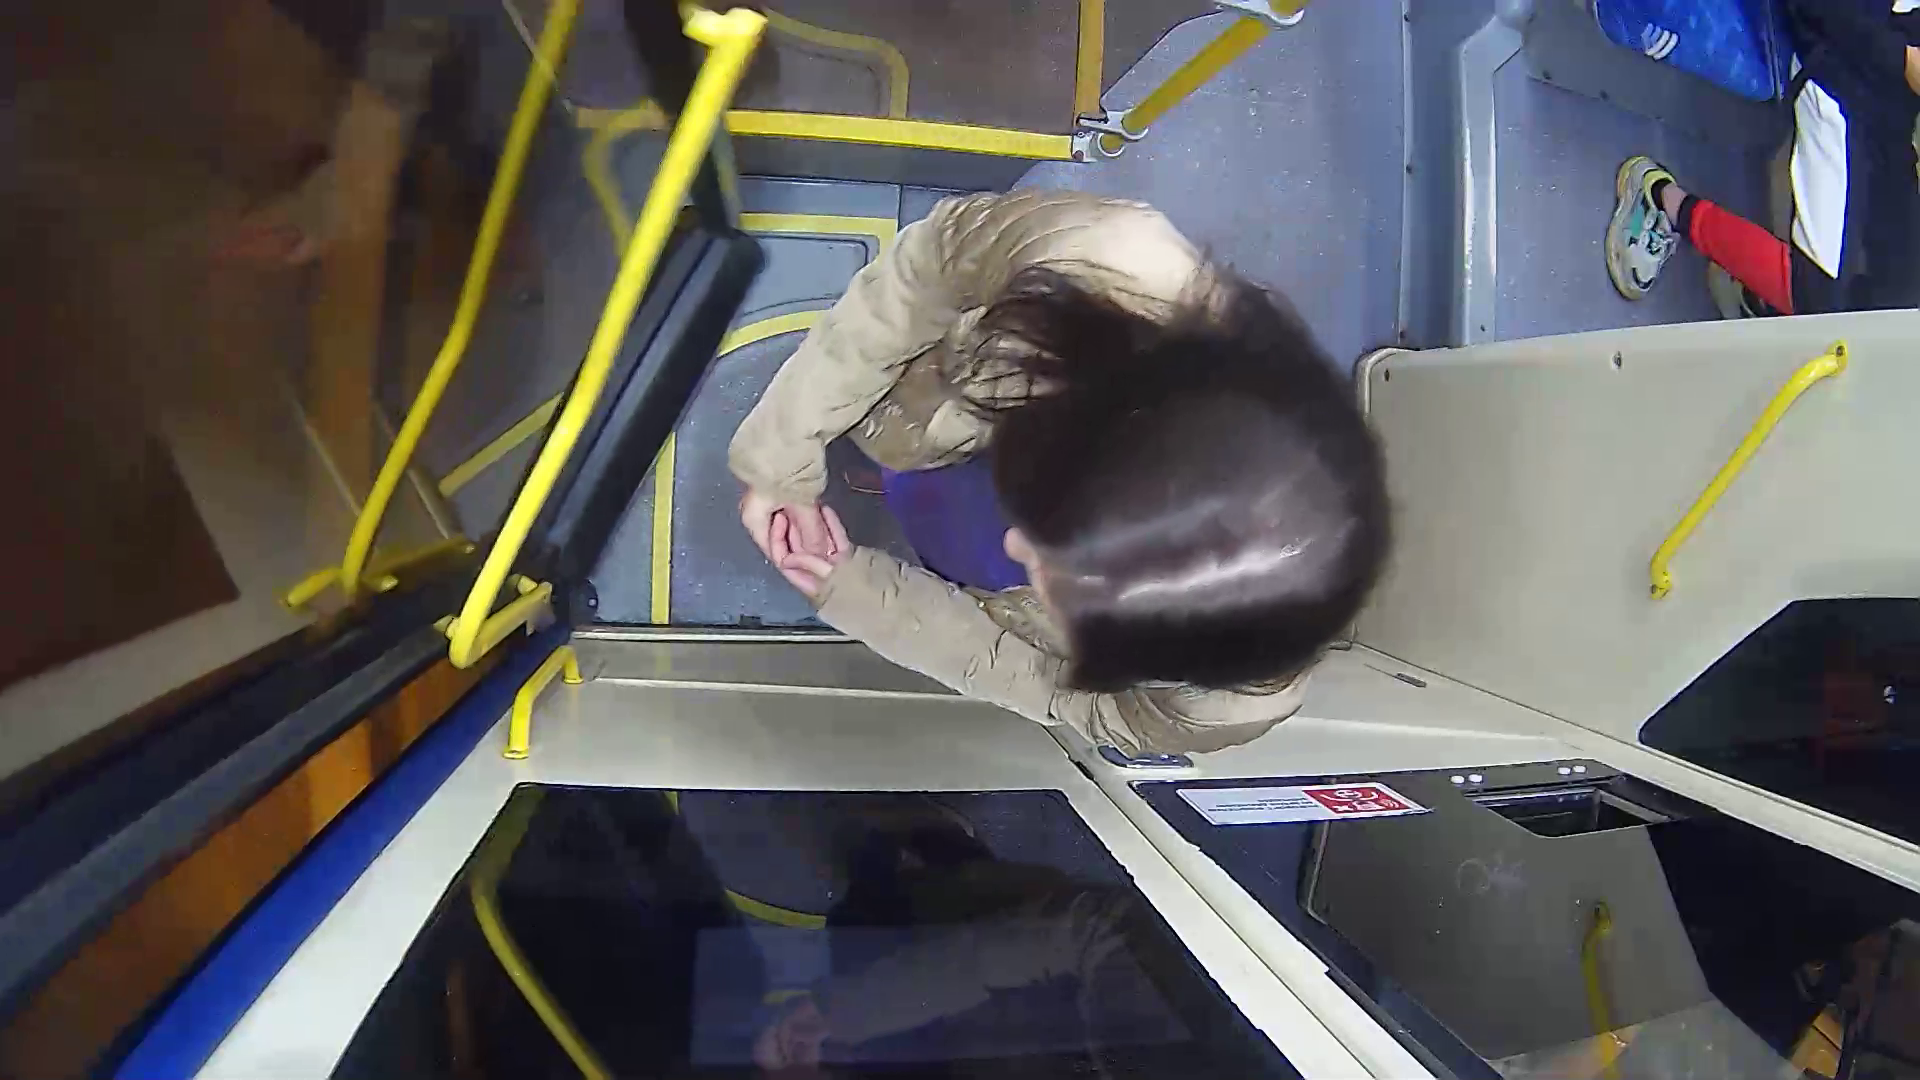person: (701, 128, 1427, 774)
